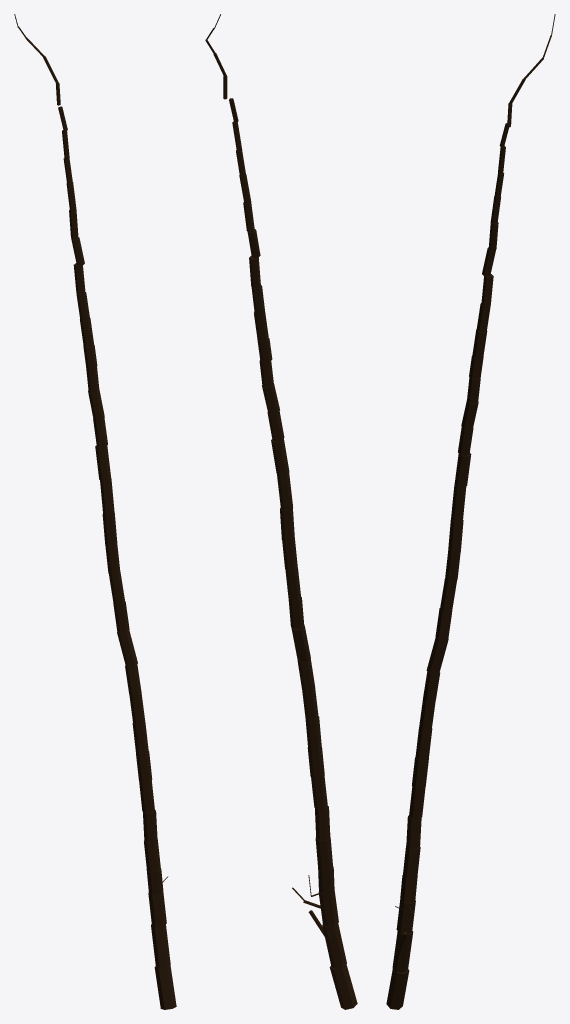
The model's file is tree_539_no_leaf.obj.
3 views of the same model, side by side, from view 1: azimuth 90°, elevation 25°; view 2: azimuth 150°, elevation 25°; view 3: azimuth 270°, elevation 25° (orthographic). The views are drawn at different scales.
Visible parts, largest first — view 1: TrunkAndBranches; view 2: TrunkAndBranches; view 3: TrunkAndBranches.
Part boxes in pixels (<box>): TrunkAndBranches: <box>14,14,176,1009</box>; TrunkAndBranches: <box>205,14,357,1009</box>; TrunkAndBranches: <box>386,14,555,1009</box>.
Bounding box in the file's own units: 0.7317 × 9.65 × 1.46.
